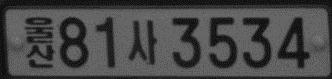1: (91, 16, 123, 67)
3: (241, 16, 272, 68), (171, 16, 200, 68)
4: (277, 16, 310, 68)
5: (209, 16, 237, 69)
8: (58, 16, 88, 68)
사: (127, 19, 157, 64)
울산_V: (24, 15, 55, 68)
